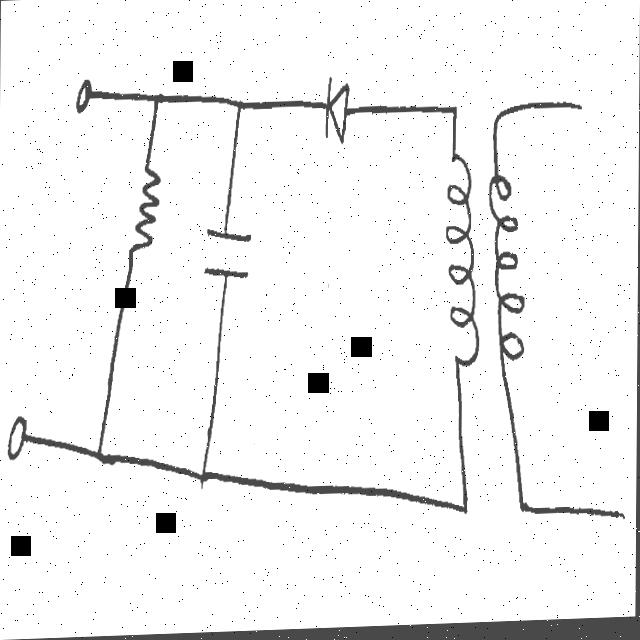capacitor: (202, 220, 252, 287)
diode: (322, 72, 349, 152)
junction: (145, 77, 164, 116), (460, 491, 472, 531), (517, 490, 529, 527), (491, 107, 503, 142), (232, 90, 245, 118), (198, 461, 210, 491), (448, 101, 459, 131), (94, 444, 105, 468)
resistor: (128, 157, 161, 269)
terminal: (4, 409, 27, 464), (74, 72, 93, 119), (615, 503, 629, 537), (574, 98, 585, 123)
transformer: (443, 151, 527, 373)
